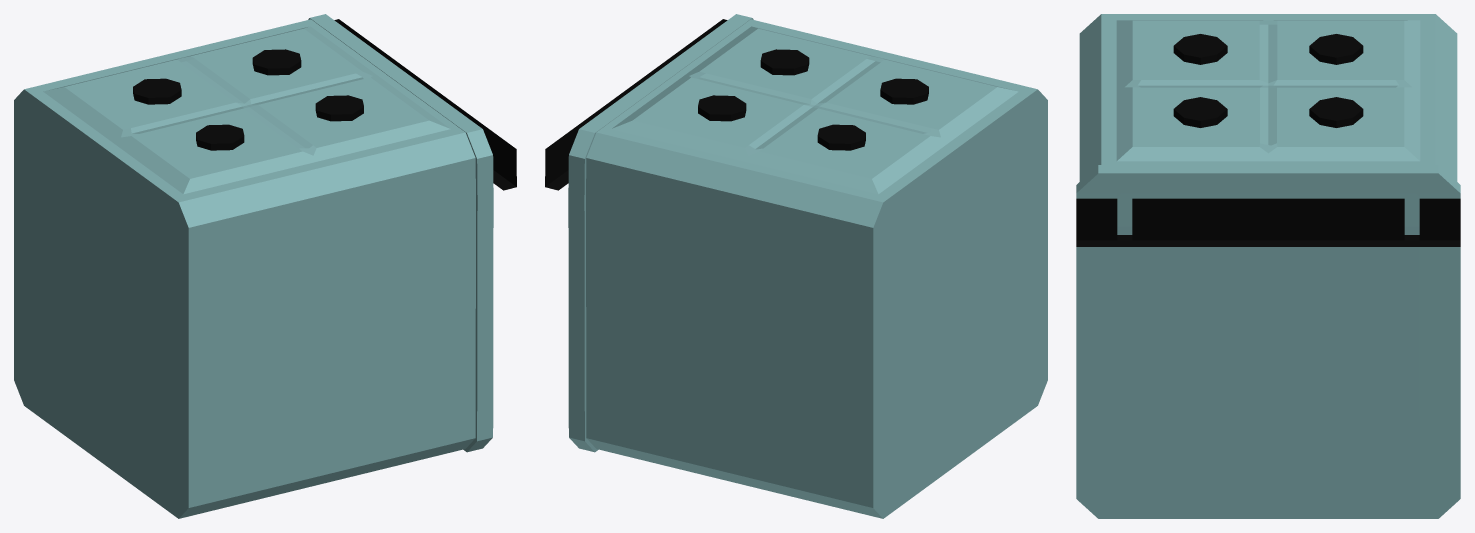
Rendered from Forno.fbx.
3 renders of one model, left to right at view 1: azimuth 30°, elevation 25°; view 2: azimuth 150°, elevation 25°; view 3: azimuth 270°, elevation 25°, orthographic. The views are drawn at different scales.
Parts seen in each view (by area): view 1: Cube, Cube.001; view 2: Cube, Cube.001; view 3: Cube.001, Cube.
Boxes of the visible parts, left/top/right/bottom form: Cube: left=14, top=19, right=475, bottom=518; Cube.001: left=308, top=14, right=516, bottom=452; Cube: left=586, top=19, right=1047, bottom=518; Cube.001: left=545, top=14, right=753, bottom=452; Cube.001: left=1076, top=165, right=1460, bottom=518; Cube: left=1079, top=14, right=1457, bottom=196.
Size of the model in its own units: 143 by 139 by 134.
